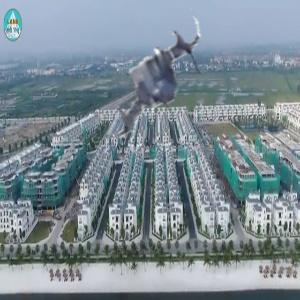drone: (80, 1, 230, 151)
